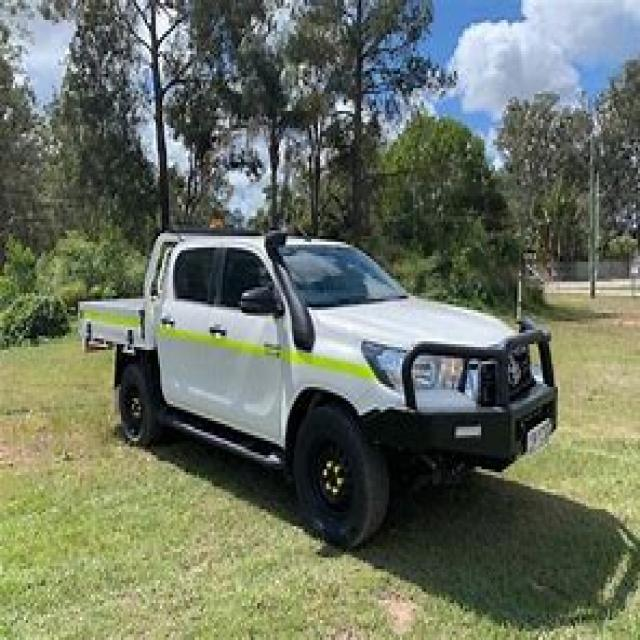light_vehicle: (54, 205, 560, 554)
